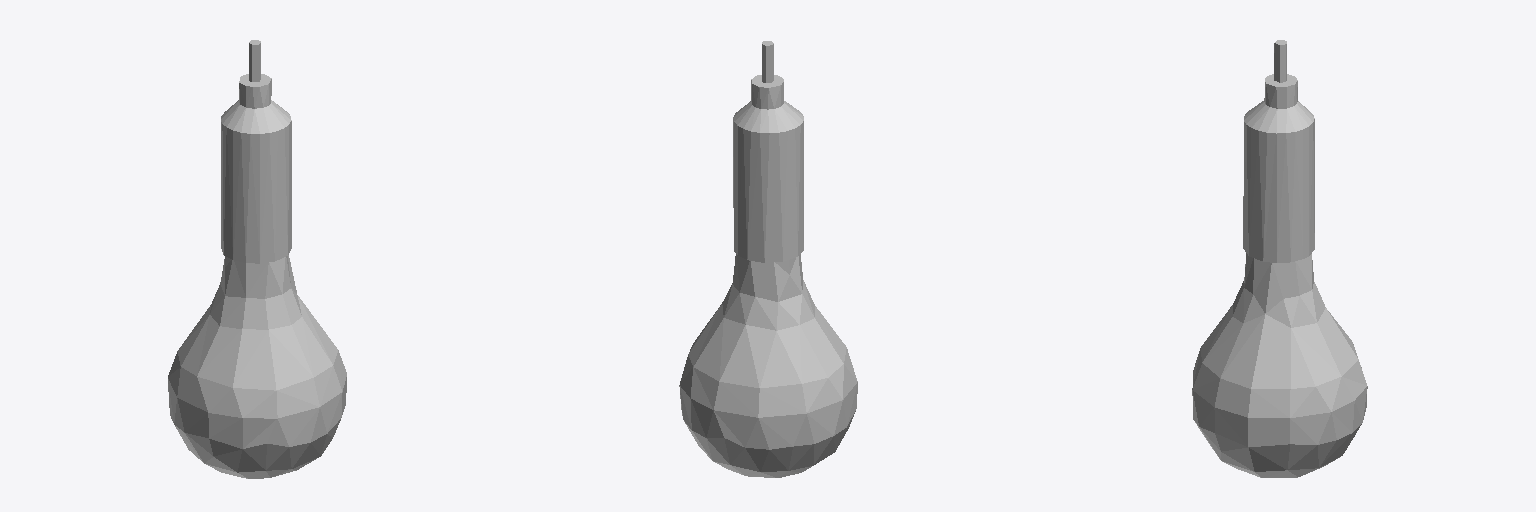
The model's file is bulb.obj.
3 views of the same model, side by side, from view 1: azimuth 30°, elevation 25°; view 2: azimuth 150°, elevation 25°; view 3: azimuth 270°, elevation 25° (orthographic).
Visible parts, largest first — view 1: light_bulb_2_Esfera_UV.010; view 2: light_bulb_2_Esfera_UV.010; view 3: light_bulb_2_Esfera_UV.010.
Part boxes in pixels (bbox=[...]): light_bulb_2_Esfera_UV.010: bbox=[168, 40, 346, 478]; light_bulb_2_Esfera_UV.010: bbox=[679, 41, 857, 477]; light_bulb_2_Esfera_UV.010: bbox=[1192, 40, 1367, 477].
Size of the model in its own units: 6.16 by 16.32 by 6.07.